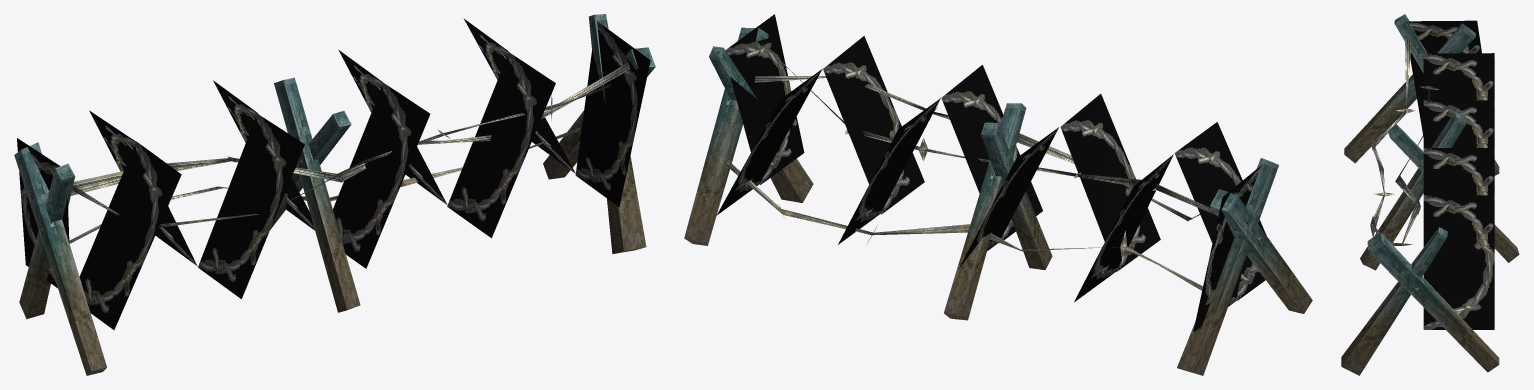
File: C4SMBWIR2H.obj
The picture shows the model from 3 angles, left to right: view 1: azimuth 30°, elevation 25°; view 2: azimuth 150°, elevation 25°; view 3: azimuth 270°, elevation 25°; orthographic projection. The views are drawn at different scales.
Visible parts, largest first — view 1: Node 4, Node 0, Node 6, Node 9, Node 7, Node 2, Node 5, Node 10, Node 3, Node 1, Node 8; view 2: Node 0, Node 4, Node 9, Node 6, Node 2, Node 7, Node 10, Node 8, Node 3, Node 5; view 3: Node 0, Node 2, Node 4, Node 9, Node 6, Node 7, Node 10, Node 3, Node 5, Node 1.
Boxes of the visible parts, box(x1,y1,x2,y2) form: Node 4: box(213, 77, 430, 312); Node 0: box(14, 14, 655, 375); Node 6: box(89, 110, 304, 298); Node 9: box(338, 49, 555, 238); Node 7: box(17, 138, 181, 329); Node 2: box(463, 18, 650, 206); Node 5: box(71, 156, 366, 195); Node 10: box(270, 111, 351, 229); Node 3: box(72, 83, 611, 227); Node 1: box(419, 62, 630, 144); Node 8: box(69, 127, 580, 243); Node 0: box(684, 27, 1312, 375); Node 4: box(941, 65, 1058, 269); Node 9: box(823, 36, 940, 244); Node 6: box(1060, 94, 1173, 302); Node 2: box(716, 14, 822, 215); Node 7: box(1174, 122, 1266, 332); Node 10: box(944, 103, 1026, 320); Node 8: box(726, 160, 1202, 290); Node 3: box(754, 76, 1200, 221); Node 5: box(920, 149, 1216, 215); Node 0: box(1341, 14, 1499, 375); Node 2: box(1423, 195, 1494, 329); Node 4: box(1360, 100, 1494, 270); Node 9: box(1423, 148, 1494, 195); Node 6: box(1423, 53, 1494, 100); Node 7: box(1408, 20, 1481, 136); Node 10: box(1388, 124, 1519, 262); Node 3: box(1370, 35, 1415, 236); Node 5: box(1395, 84, 1439, 205); Node 1: box(1391, 196, 1420, 245).
Bounding box in the file's own units: 7.24 × 2.34 × 2.46.
Materials: 12 (12 with a texture image).
